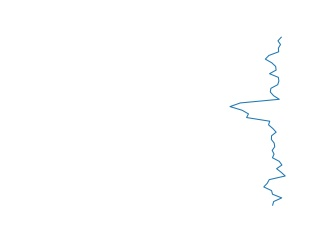interdistributaryEstuary: (227, 35, 294, 207)
